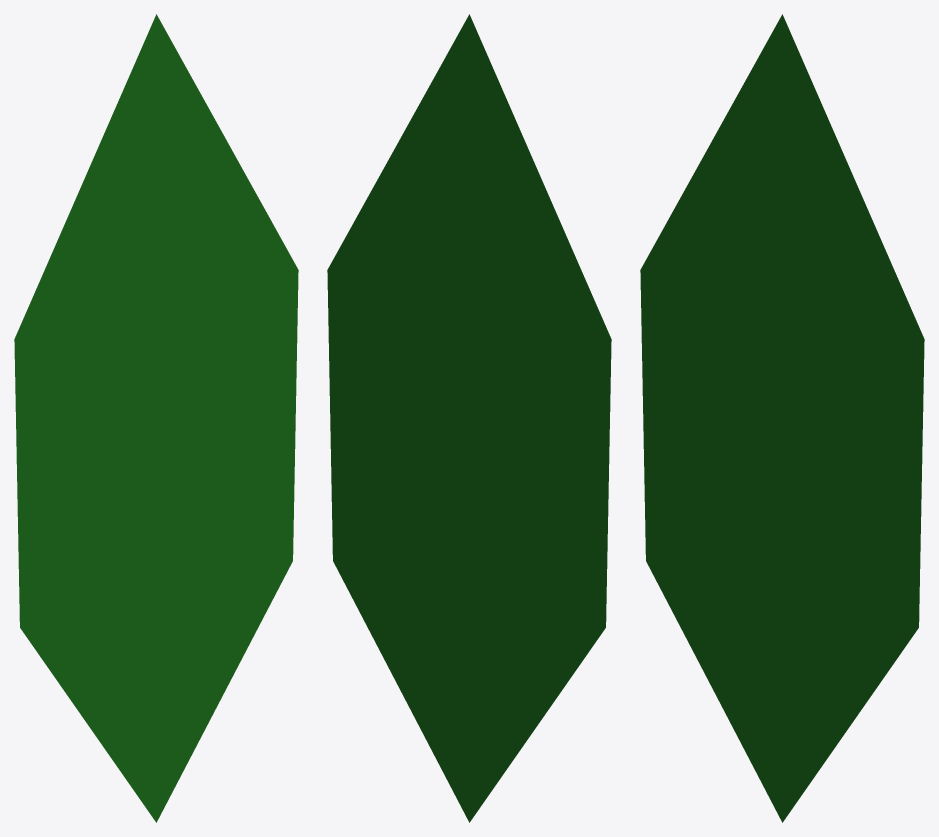
Rendered from leaf.obj.
The picture shows the model from 3 angles, left to right: view 1: azimuth 30°, elevation 25°; view 2: azimuth 150°, elevation 25°; view 3: azimuth 330°, elevation 25°; orthographic projection.
Bounding box in the file's own units: 0.9923 × 2.7 × 0.
